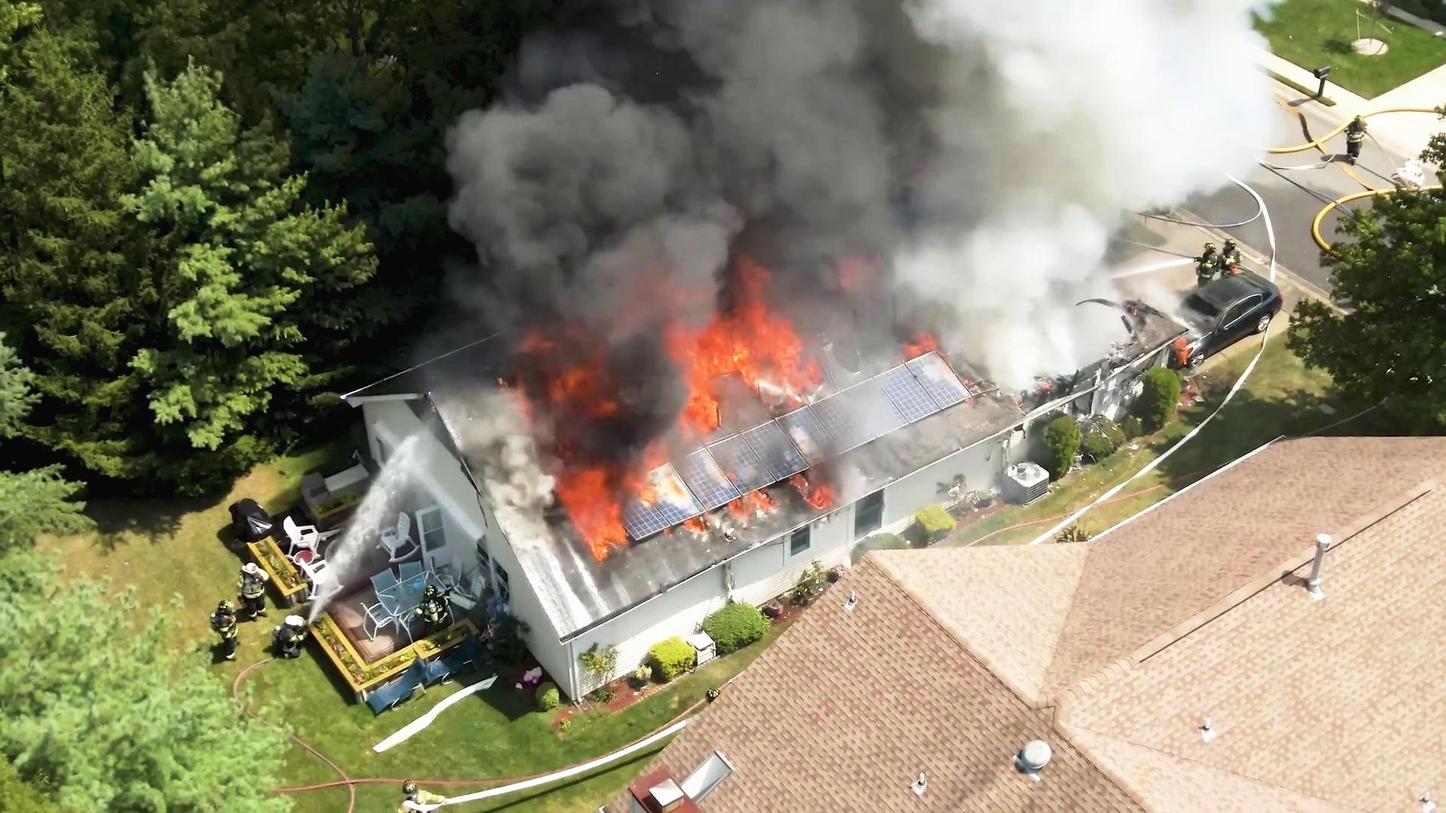fire: (510, 317, 620, 524), (667, 268, 802, 413)
smoke: (689, 0, 1255, 207), (441, 53, 746, 283)
